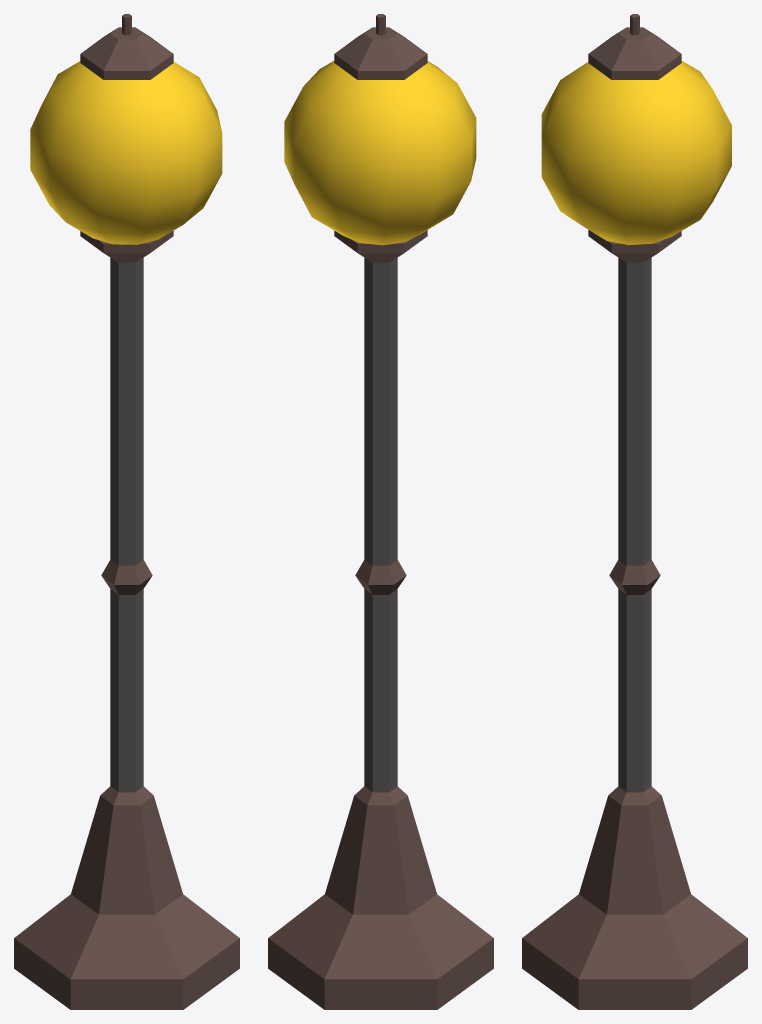
The model's file is LampPost_01.glb.
The picture shows the model from 3 angles, left to right: view 1: azimuth 30°, elevation 25°; view 2: azimuth 150°, elevation 25°; view 3: azimuth 270°, elevation 25°; orthographic projection.
Parts seen in each view (by area): view 1: LampPost_01; view 2: LampPost_01; view 3: LampPost_01.
Boxes of the visible parts, x1,y1,x2,y2 form: LampPost_01: [14, 14, 239, 1009]; LampPost_01: [268, 14, 493, 1009]; LampPost_01: [522, 14, 747, 1009].
Size of what is drawn, in the model's own units: 0.6179 by 3.32 by 0.7135.
Materials: 1 (1 with a texture image).
